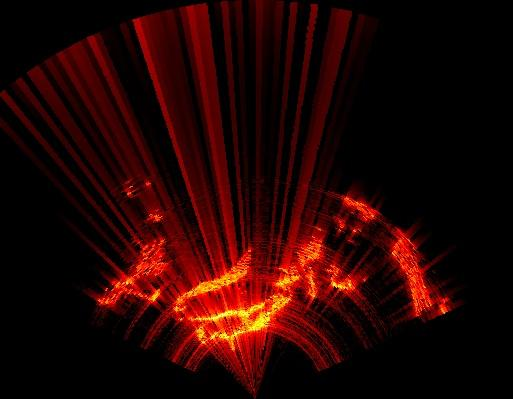shipwreck: (185, 241, 321, 350), (173, 249, 250, 314), (100, 247, 168, 303), (392, 238, 432, 313), (330, 265, 356, 290)
